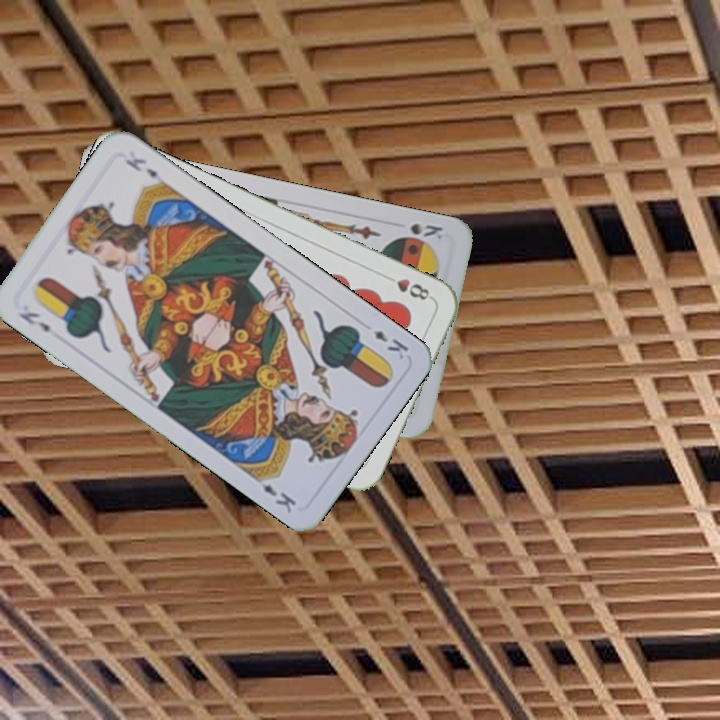EK: (369, 326, 411, 362), (15, 307, 53, 336)
H8: (380, 271, 435, 303)
SK: (406, 219, 446, 242)
